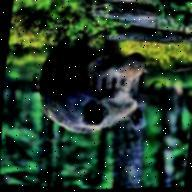boar: (20, 21, 158, 147)
